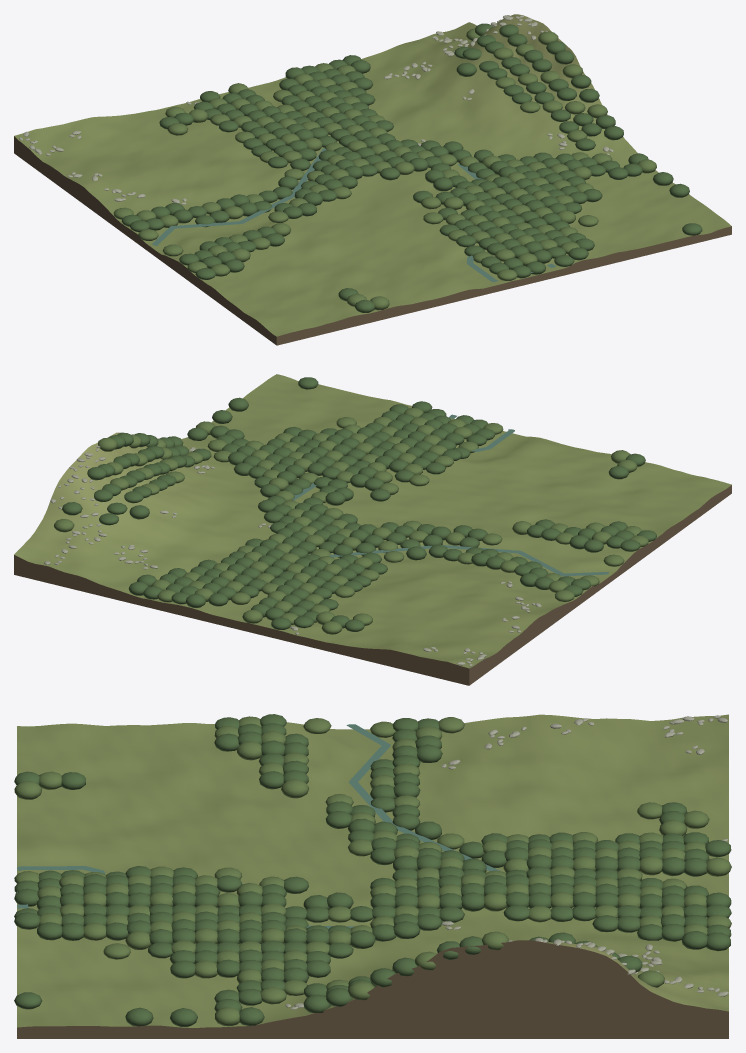
Rendered from gms-07.glb.
3 views of the same model, one above another, from view 1: azimuth 30°, elevation 25°; view 2: azimuth 150°, elevation 25°; view 3: azimuth 270°, elevation 25° (orthographic). The views are drawn at different scales.
Visible parts, largest first — view 1: GMS-07 - estudio del paisaje; view 2: GMS-07 - estudio del paisaje; view 3: GMS-07 - estudio del paisaje.
Part boxes in pixels (x1=…): GMS-07 - estudio del paisaje: x1=14, y1=14, x2=731, y2=345; GMS-07 - estudio del paisaje: x1=14, y1=374, x2=731, y2=685; GMS-07 - estudio del paisaje: x1=14, y1=714, x2=731, y2=1038.
Bounding box in the file's own units: 12.1 × 1.88 × 12.1.
